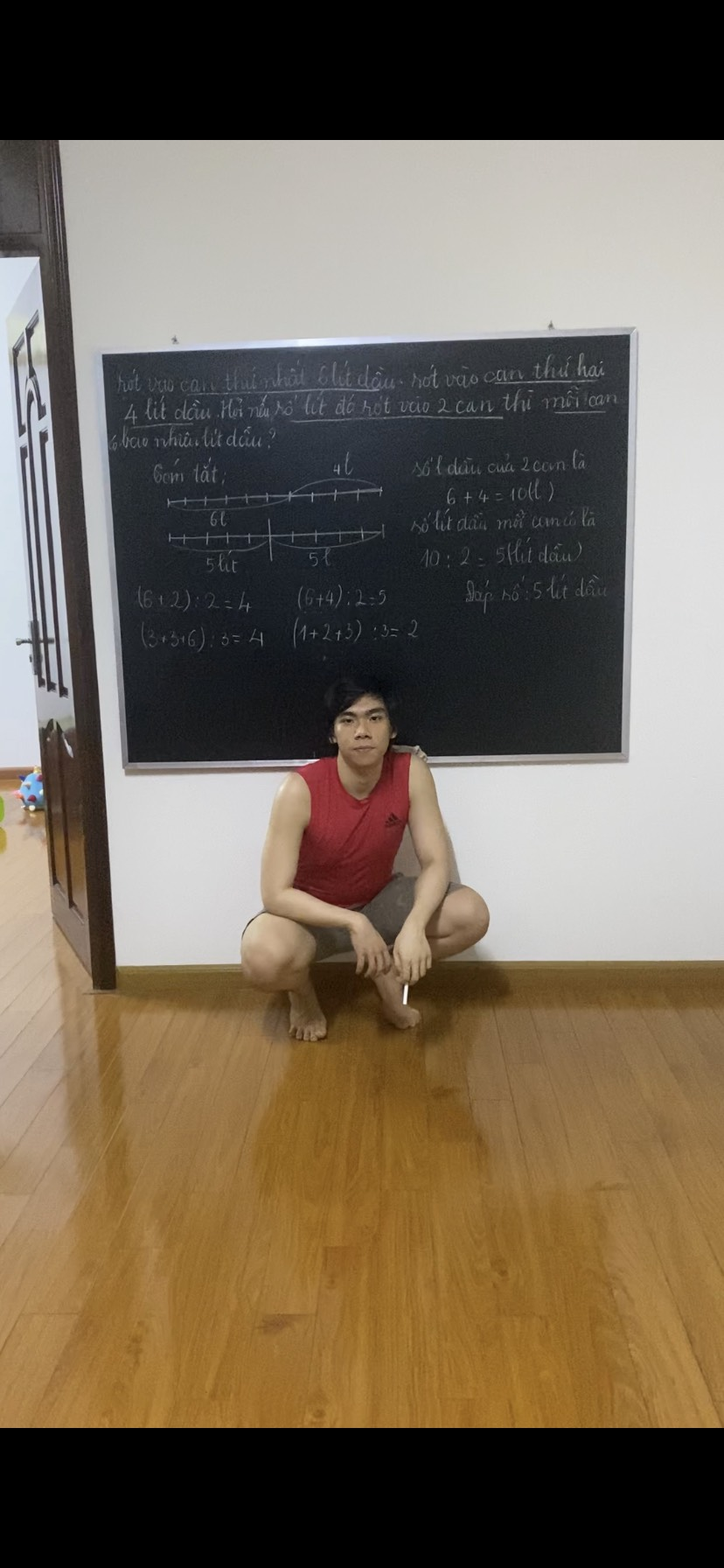cigarette: (398, 983, 413, 1010)
person: (238, 676, 491, 1032)
